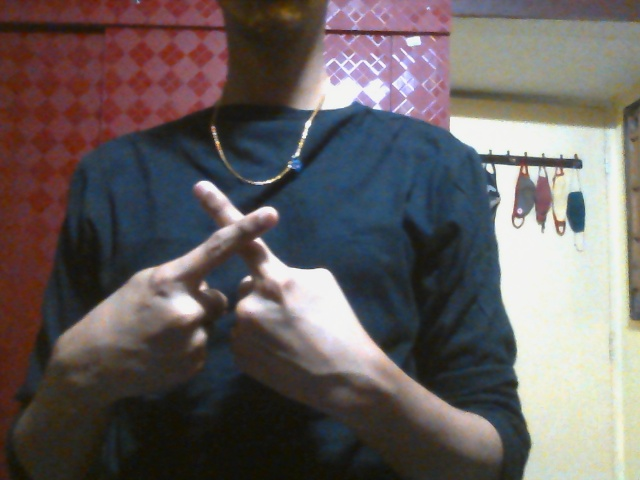X: (98, 180, 353, 415)
